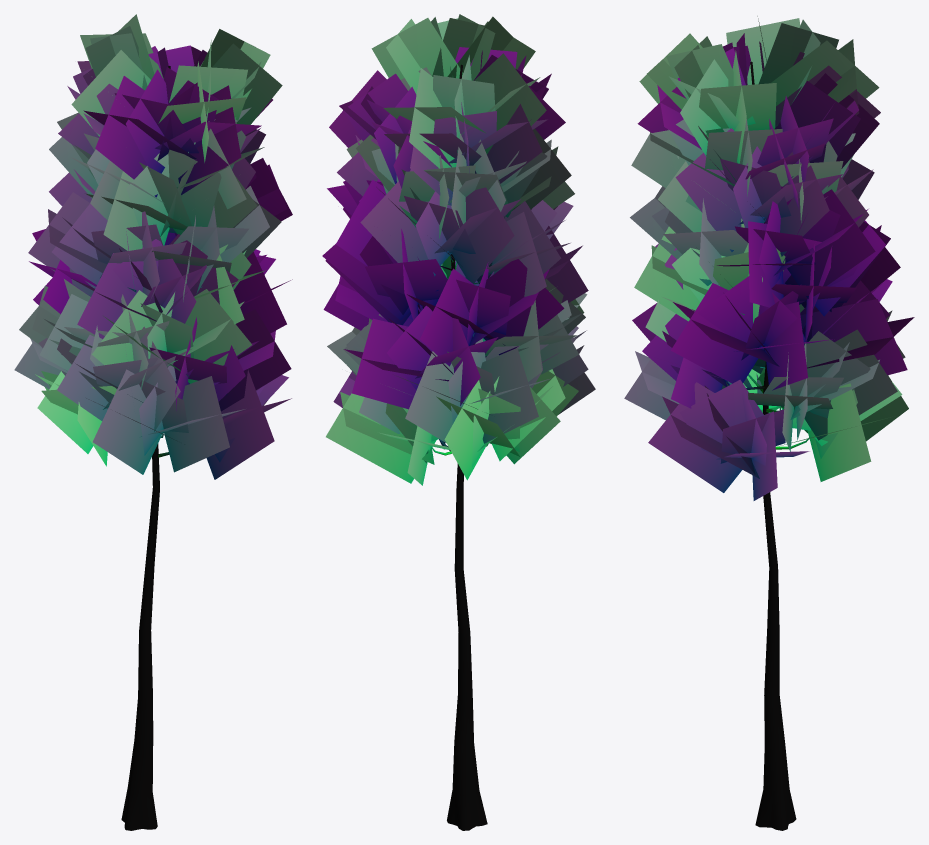
File: Tree_5_6.fbx
3 views of the same model, side by side, from view 1: azimuth 30°, elevation 25°; view 2: azimuth 150°, elevation 25°; view 3: azimuth 270°, elevation 25° (orthographic). The views are drawn at different scales.
Parts seen in each view (by area): view 1: _6; view 2: _6; view 3: _6.
Part boxes in pixels (<box>): _6: <box>14,14,292,830</box>; _6: <box>322,14,595,830</box>; _6: <box>624,16,914,830</box>.
Size of the model in its own units: 985 by 2983 by 980.
